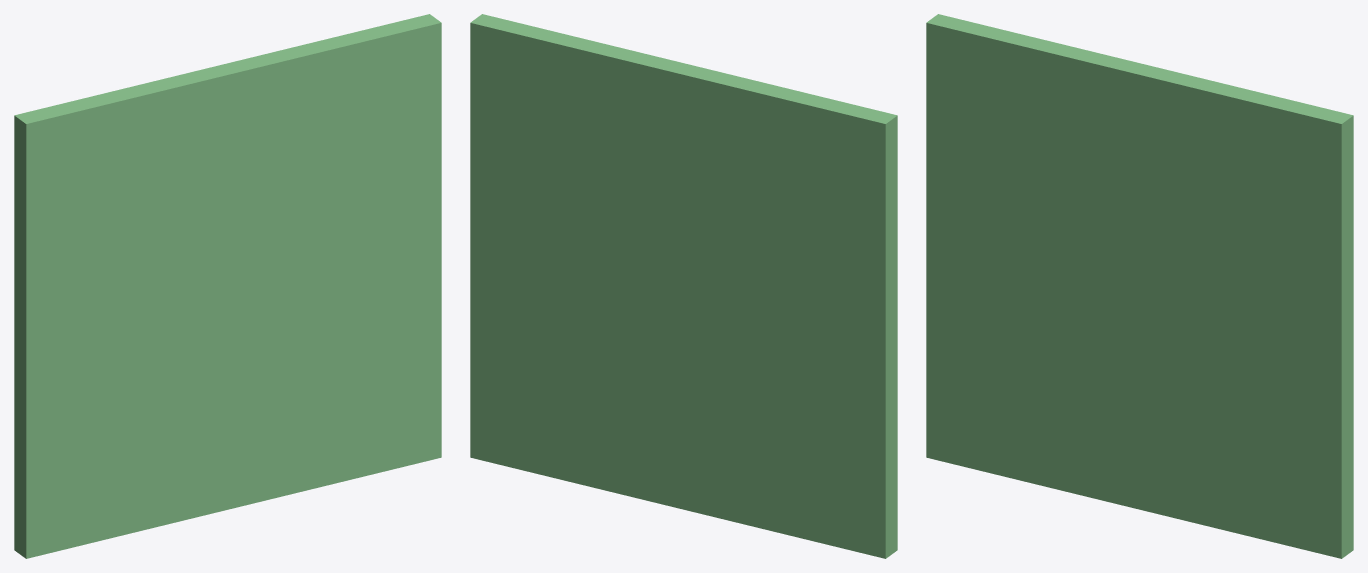
The model's file is FLORESTs.gltf.
3 renders of one model, left to right at view 1: azimuth 30°, elevation 25°; view 2: azimuth 150°, elevation 25°; view 3: azimuth 330°, elevation 25°, orthographic.
Visible parts, largest first — view 1: trilhos v13 (7); view 2: trilhos v13 (7); view 3: trilhos v13 (7).
Part boxes in pixels (box(x1,y1,x2,y2)): trilhos v13 (7): box(14, 14, 441, 558); trilhos v13 (7): box(470, 14, 897, 558); trilhos v13 (7): box(926, 14, 1353, 558).
Size of the model in its own units: 0.15 by 0.15 by 0.0075.
